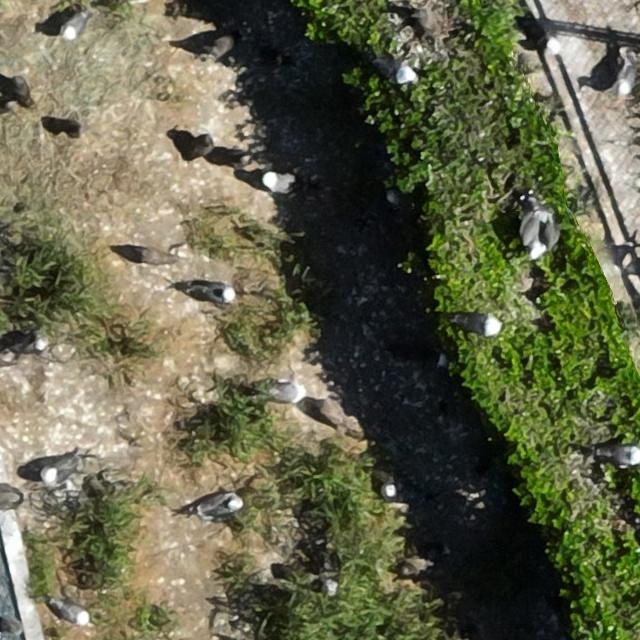F: (521, 202, 562, 257)
umineko: (378, 479, 423, 504), (376, 60, 417, 84), (615, 56, 638, 98), (387, 190, 417, 220), (188, 285, 233, 304), (458, 313, 500, 333), (199, 496, 240, 516), (267, 380, 303, 402), (44, 458, 74, 484), (56, 602, 88, 626), (62, 12, 86, 38), (262, 172, 292, 192), (610, 446, 638, 466), (16, 339, 48, 355), (536, 34, 561, 50)
